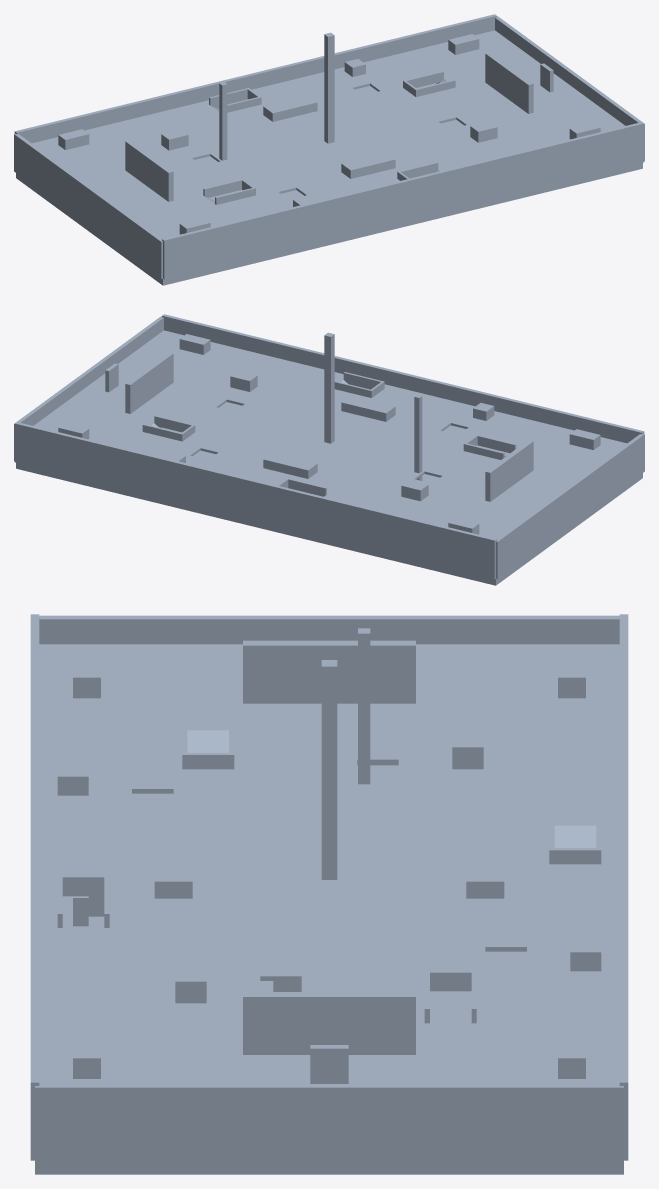
The model's file is blackflag_collision.glb.
3 views of the same model, one above another, from view 1: azimuth 30°, elevation 25°; view 2: azimuth 150°, elevation 25°; view 3: azimuth 270°, elevation 25° (orthographic). The views are drawn at different scales.
Visible parts, largest first — view 1: COL_bulwark_17, COL_bulwark_-17, COL_stern_deck, COL_bow_deck, COL_end_bulwark_-32, COL_main_deck, COL_upper_deck_13, COL_upper_deck_15, COL_upper_deck_14, COL_upper_deck_1, COL_upper_deck_11, COL_upper_deck_17 (+26 smaller); view 2: COL_bulwark_-17, COL_bulwark_17, COL_stern_deck, COL_bow_deck, COL_end_bulwark_-32, COL_main_deck, COL_upper_deck_13, COL_upper_deck_15, COL_upper_deck_14, COL_upper_deck_27, COL_upper_deck_11, COL_upper_deck_17 (+25 smaller); view 3: COL_end_bulwark_32, COL_bow_deck, COL_stern_deck, COL_upper_deck_15, COL_upper_deck_13, COL_end_bulwark_-32, COL_upper_deck_14, COL_main_deck, COL_upper_deck_11, COL_upper_deck_17, COL_stern_screen, COL_upper_deck_1 (+40 smaller).
Boxes of the visible parts, x1=… form: COL_bulwark_17: x1=162, y1=122, x2=644, y2=279; COL_bulwark_-17: x1=14, y1=14, x2=496, y2=143; COL_stern_deck: x1=422, y1=30, x2=625, y2=143; COL_bow_deck: x1=32, y1=129, x2=221, y2=238; COL_end_bulwark_-32: x1=14, y1=133, x2=162, y2=278; COL_main_deck: x1=16, y1=83, x2=642, y2=285; COL_upper_deck_13: x1=227, y1=105, x2=371, y2=196; COL_upper_deck_15: x1=272, y1=75, x2=437, y2=178; COL_upper_deck_14: x1=247, y1=85, x2=399, y2=187; COL_upper_deck_1: x1=107, y1=118, x2=234, y2=197; COL_upper_deck_11: x1=185, y1=101, x2=334, y2=201; COL_upper_deck_17: x1=310, y1=72, x2=459, y2=170; COL_bulwark_-17: x1=14, y1=422, x2=496, y2=579; COL_bulwark_17: x1=162, y1=314, x2=644, y2=443; COL_stern_deck: x1=33, y1=330, x2=236, y2=443; COL_bow_deck: x1=437, y1=429, x2=626, y2=538; COL_end_bulwark_-32: x1=496, y1=433, x2=644, y2=578; COL_main_deck: x1=16, y1=402, x2=642, y2=585; COL_upper_deck_13: x1=288, y1=392, x2=453, y2=496; COL_upper_deck_15: x1=219, y1=389, x2=368, y2=480; COL_upper_deck_14: x1=257, y1=385, x2=416, y2=487; COL_upper_deck_27: x1=155, y1=352, x2=281, y2=432; COL_upper_deck_11: x1=324, y1=401, x2=473, y2=501; COL_upper_deck_17: x1=199, y1=372, x2=343, y2=470; COL_end_bulwark_32: x1=35, y1=1084, x2=623, y2=1162; COL_bow_deck: x1=39, y1=644, x2=619, y2=765; COL_stern_deck: x1=39, y1=1038, x2=619, y2=1083; COL_upper_deck_15: x1=109, y1=891, x2=619, y2=927; COL_upper_deck_13: x1=39, y1=825, x2=549, y2=862; COL_end_bulwark_-32: x1=39, y1=615, x2=619, y2=644; COL_upper_deck_14: x1=39, y1=862, x2=619, y2=896; COL_main_deck: x1=35, y1=765, x2=623, y2=1174; COL_upper_deck_11: x1=39, y1=806, x2=619, y2=825; COL_upper_deck_17: x1=39, y1=928, x2=619, y2=951; COL_stern_screen: x1=243, y1=992, x2=415, y2=1054; COL_upper_deck_1: x1=234, y1=730, x2=619, y2=764.
Bounding box in the file's own units: 64.5 × 17.65 × 34.5.
